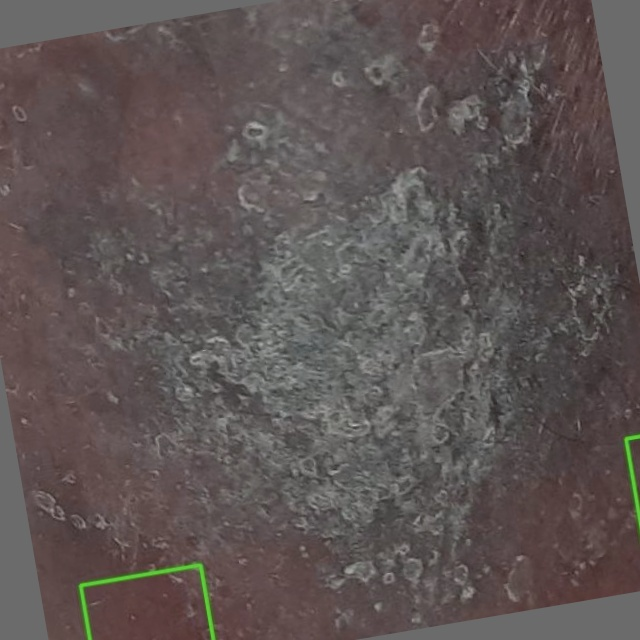Tinea Corporis: (79, 565, 212, 639)
